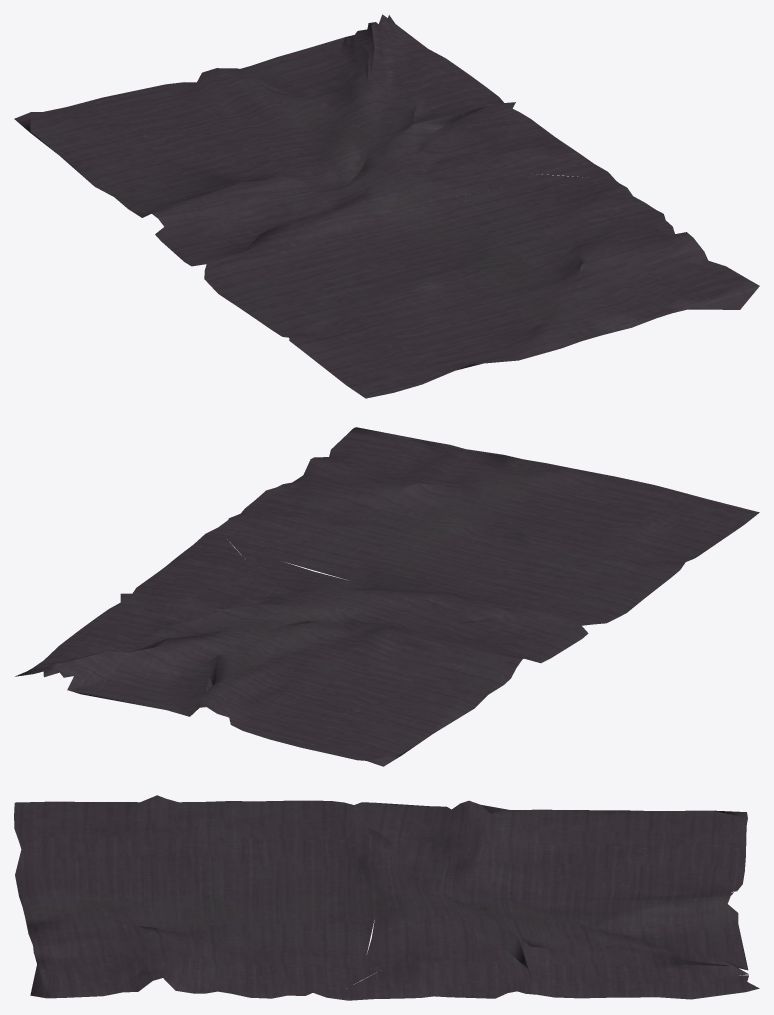
File: Carpet0014.obj
3 views of the same model, one above another, from view 1: azimuth 30°, elevation 25°; view 2: azimuth 150°, elevation 25°; view 3: azimuth 270°, elevation 25° (orthographic). The views are drawn at different scales.
Bounding box in the file's own units: 1.96 × 0.129 × 3.1.
Materials: 1 (1 with a texture image).
